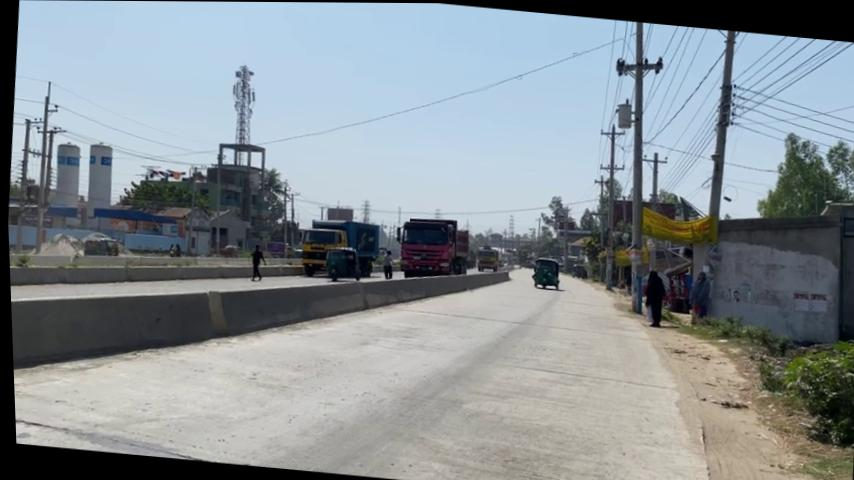Car: (6, 220, 514, 417)
Fence: (638, 268, 666, 327), (683, 268, 710, 325), (245, 243, 266, 281), (378, 249, 392, 279)
Garbage: (609, 21, 665, 313)
Rickshaw: (294, 215, 381, 282), (393, 213, 470, 283)
